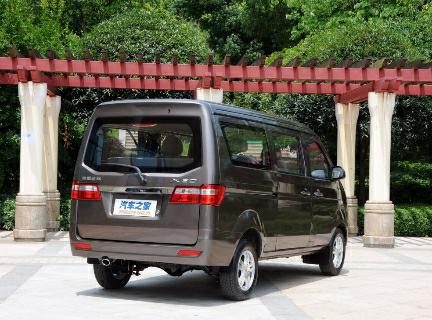金杯-小海狮X30: (65, 95, 352, 302)
